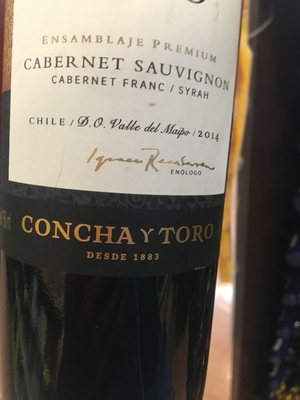trio cabernet sauvignon: (2, 1, 246, 400)
